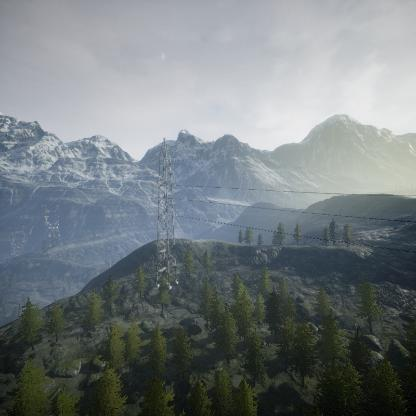tower: (149, 137, 184, 286), (41, 207, 66, 251)
